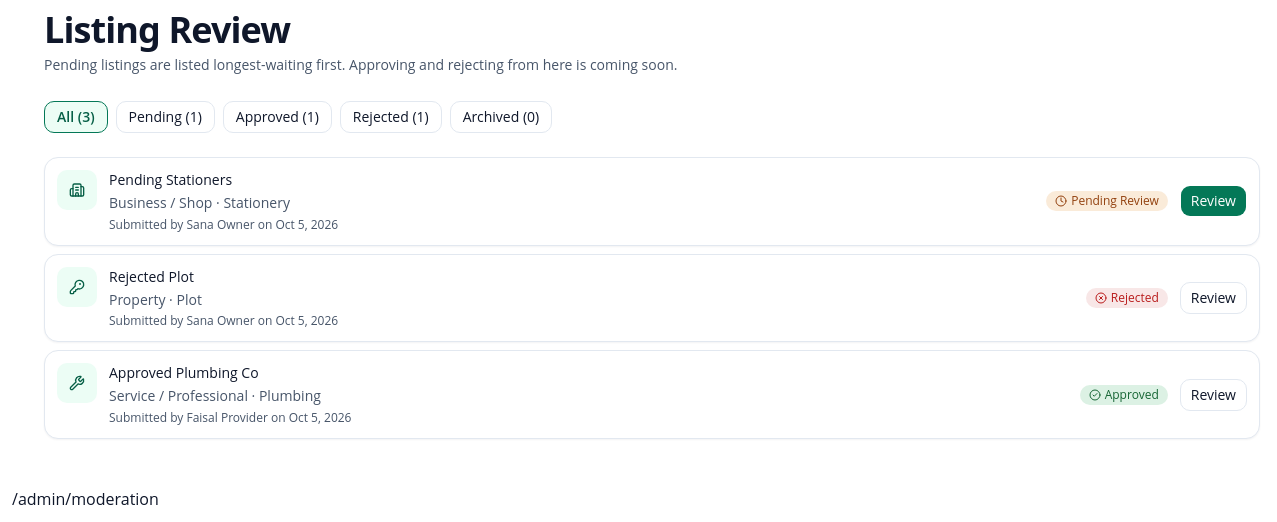
Test case: Admin: moderation queue › an empty filter is an empty state; a 403 is an error
Expected: the text "Pending Stationers" is shown, [109, 170, 232, 189]
Click the radio button labelled "Archived (0)".
click(501, 117)  # box [450, 101, 552, 133]
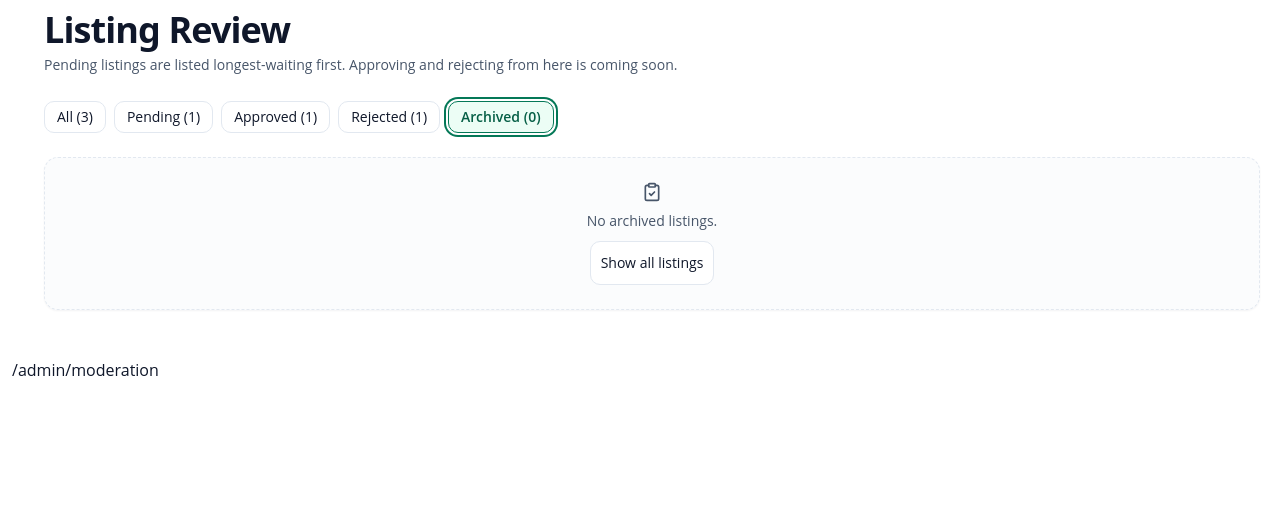
Now the text "No archived listings." is shown, box [587, 210, 717, 233]
